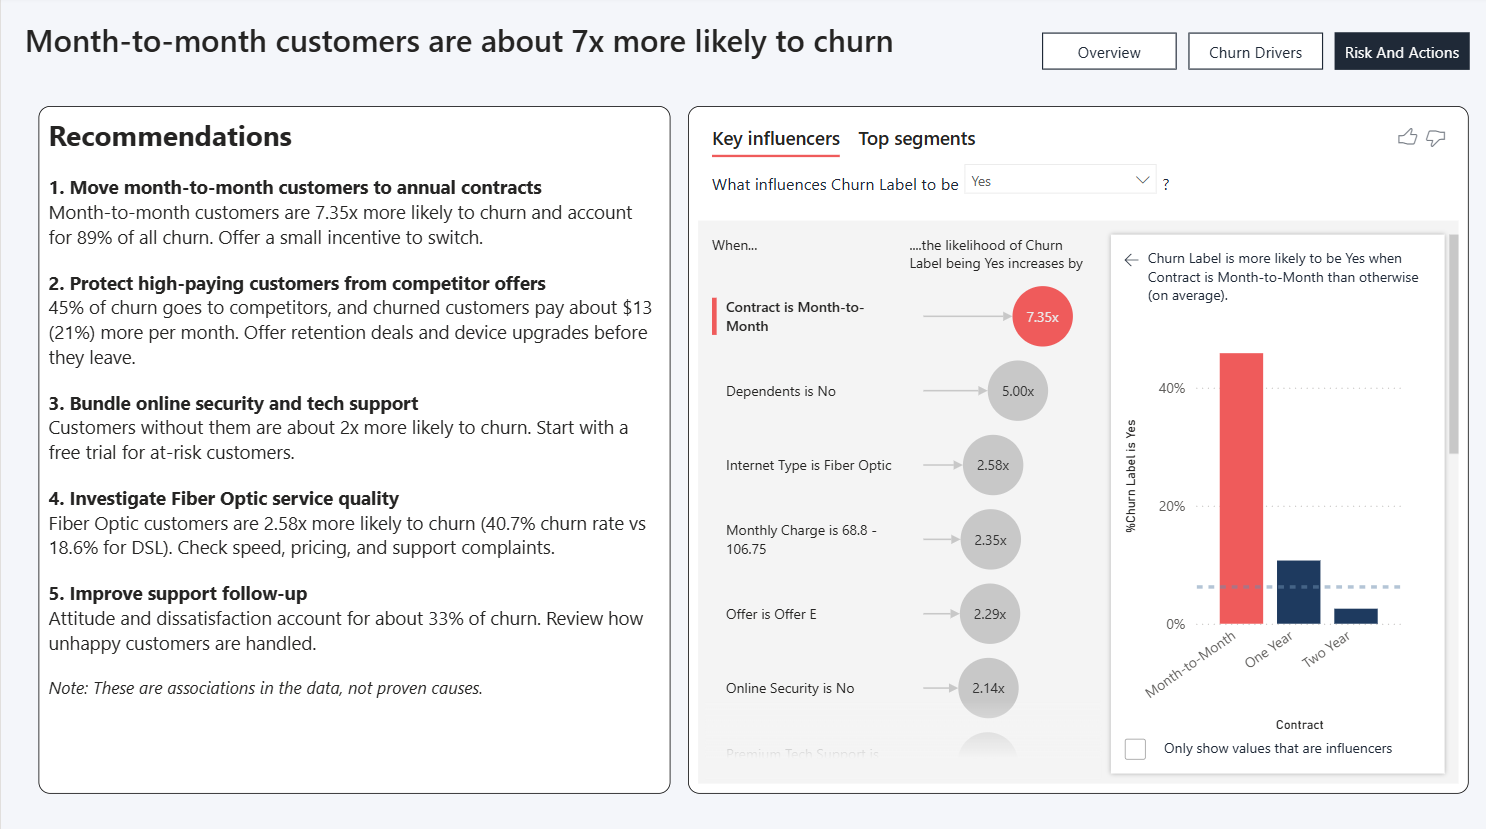

The page's visual inventory and layout, read from the dashboard file:
{"tool":"powerbi","page":{"name":"Risk And Actions","canvas":[1280,720],"ordinal":2},"visuals":[{"type":"keyDriversVisual","fields":{"Target":["telco.Churn Label"],"ExplainBy":["telco.Contract","telco.Payment Method","telco.Internet Type","telco.Monthly Charge","telco.Tenure in Months","telco.Online Security","telco.Age","telco.Premium Tech Support","telco.Dependents","telco.Married","telco.Offer","telco.Phone Service"]},"box":[592,96,672,592],"z":0},{"type":"textbox","box":[16,16,928,64],"z":1000},{"type":"textbox","box":[32,96,544,592],"z":2000},{"type":"pageNavigator","box":[896,32,368,32],"z":3000}]}

Visuals, with their boxes in screenshot pixels (x1, y1, x2, y2), scaled from the page's 1280x720 canvas onto the 1486x829 screenshot:
keyDriversVisual - telco.Churn Label x telco.Contract: 687, 111, 1467, 792
textbox: 19, 18, 1096, 92
textbox: 37, 111, 669, 792
pageNavigator: 1040, 37, 1467, 74
